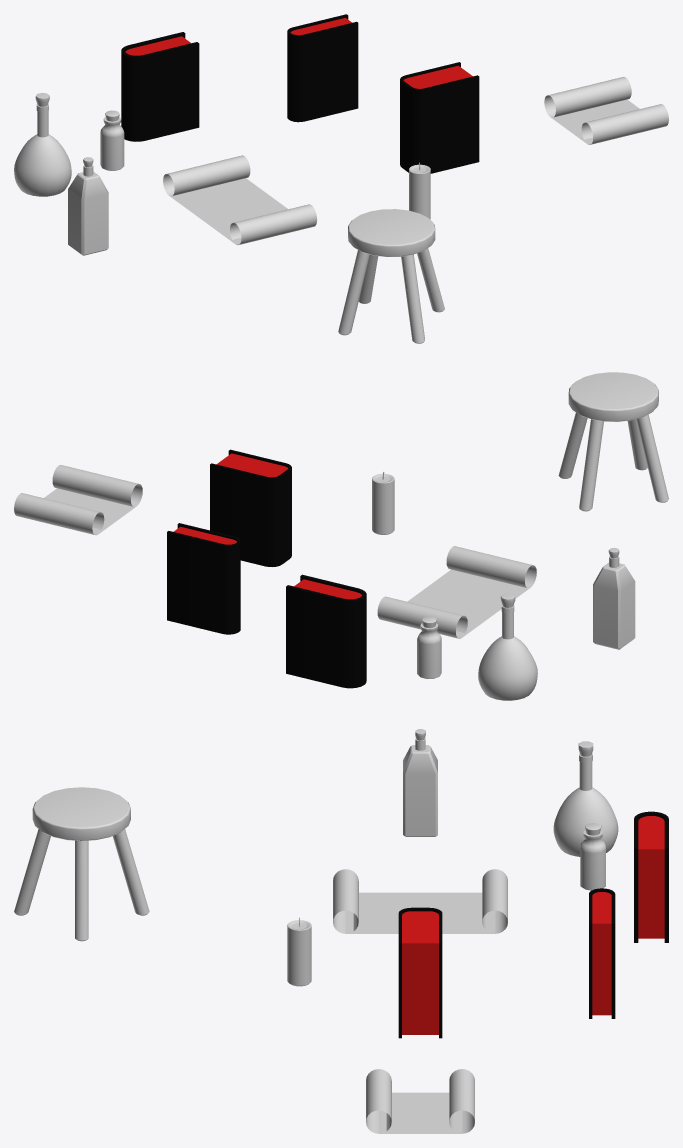
The model's file is Props.fbx.
3 renders of one model, top to bottom at view 1: azimuth 30°, elevation 25°; view 2: azimuth 150°, elevation 25°; view 3: azimuth 270°, elevation 25°, orthographic. The views are drawn at different scales.
Visible parts, largest first — view 1: Book03, Book01, Scroll02, Stool, Book02, Scroll01, Bottle03, Bottle02, Bottle01, Candle; view 2: Book01, Book03, Stool, Scroll02, Book02, Scroll01, Bottle03, Bottle02, Bottle01, Candle; view 3: Stool, Scroll02, Book03, Scroll01, Book01, Bottle03, Book02, Bottle02, Candle, Bottle01.
Boxes of the visible parts, x1,y1,x2,y2 form: Book03: (400, 62, 479, 173); Book01: (121, 32, 199, 141); Scroll02: (163, 155, 317, 245); Stool: (338, 209, 444, 343); Book02: (287, 14, 358, 122); Scroll01: (544, 77, 668, 144); Bottle03: (14, 93, 71, 196); Bottle02: (68, 157, 108, 255); Bottle01: (100, 110, 124, 170); Candle: (409, 162, 430, 219); Book01: (286, 574, 366, 688); Book03: (210, 449, 291, 566); Stool: (558, 372, 668, 511); Scroll02: (377, 546, 536, 638); Book02: (167, 523, 240, 634); Scroll01: (14, 465, 142, 535); Bottle03: (478, 593, 537, 700); Bottle02: (593, 547, 635, 649); Bottle01: (417, 616, 441, 678); Candle: (372, 471, 394, 534); Stool: (14, 787, 149, 941); Scroll02: (333, 869, 507, 933); Book03: (398, 907, 442, 1038); Scroll01: (366, 1069, 474, 1133); Book01: (634, 811, 668, 942); Bottle03: (553, 741, 618, 856); Book02: (589, 888, 615, 1018); Bottle02: (403, 729, 437, 836); Candle: (287, 917, 311, 986); Bottle01: (580, 823, 605, 890).
Size of the model in its own units: 1503 by 239 by 1339.
